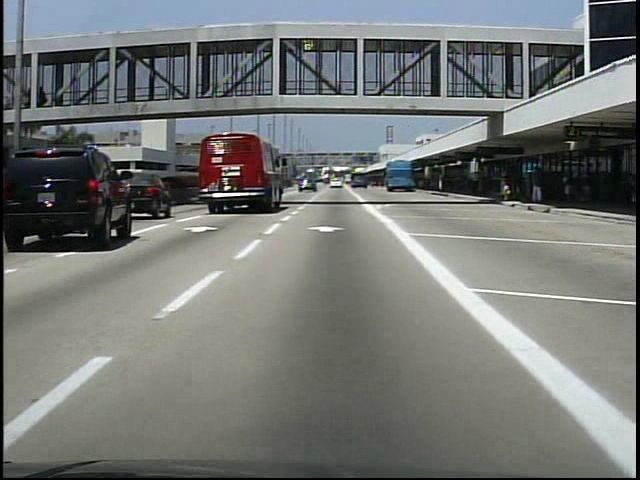person: (560, 168, 578, 208), (470, 172, 481, 194)
